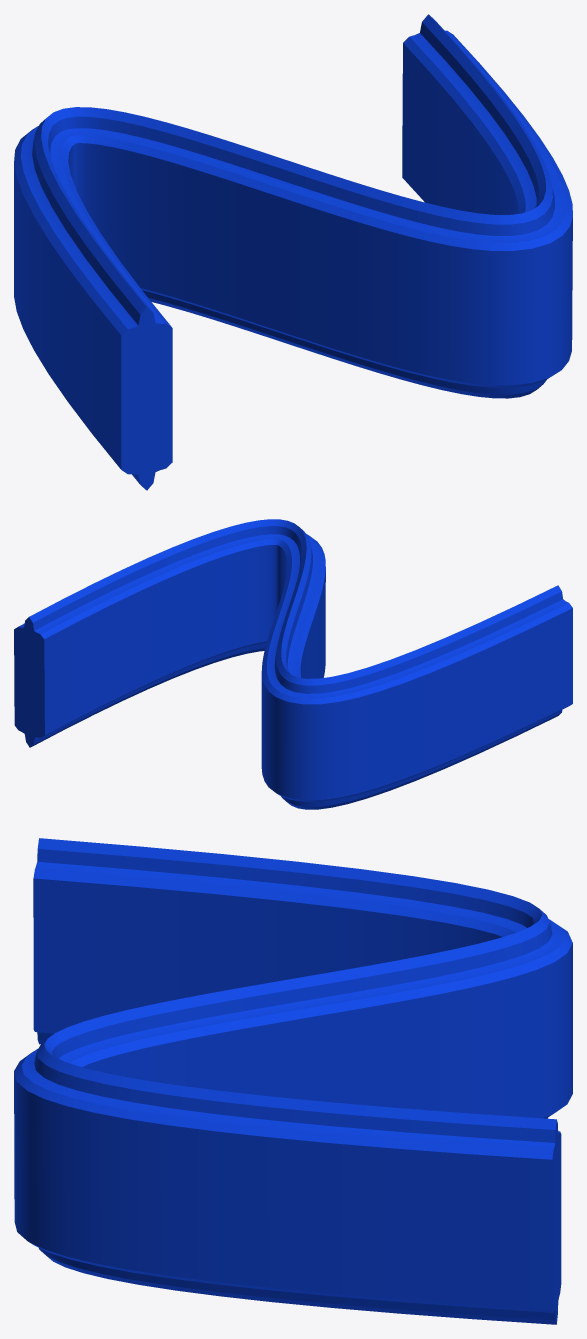
Rendered from aspnet-3d.glb.
3 renders of one model, top to bottom at view 1: azimuth 30°, elevation 25°; view 2: azimuth 150°, elevation 25°; view 3: azimuth 270°, elevation 25°, orthographic. The views are drawn at different scales.
Visible parts, largest first — view 1: NurbsPath; view 2: NurbsPath; view 3: NurbsPath.
Boxes of the visible parts, x1=… form: NurbsPath: x1=14, y1=14, x2=572, y2=490; NurbsPath: x1=14, y1=519, x2=572, y2=809; NurbsPath: x1=14, y1=838, x2=572, y2=1324.
Size of the model in its own units: 11.05 by 3.49 by 8.53.
